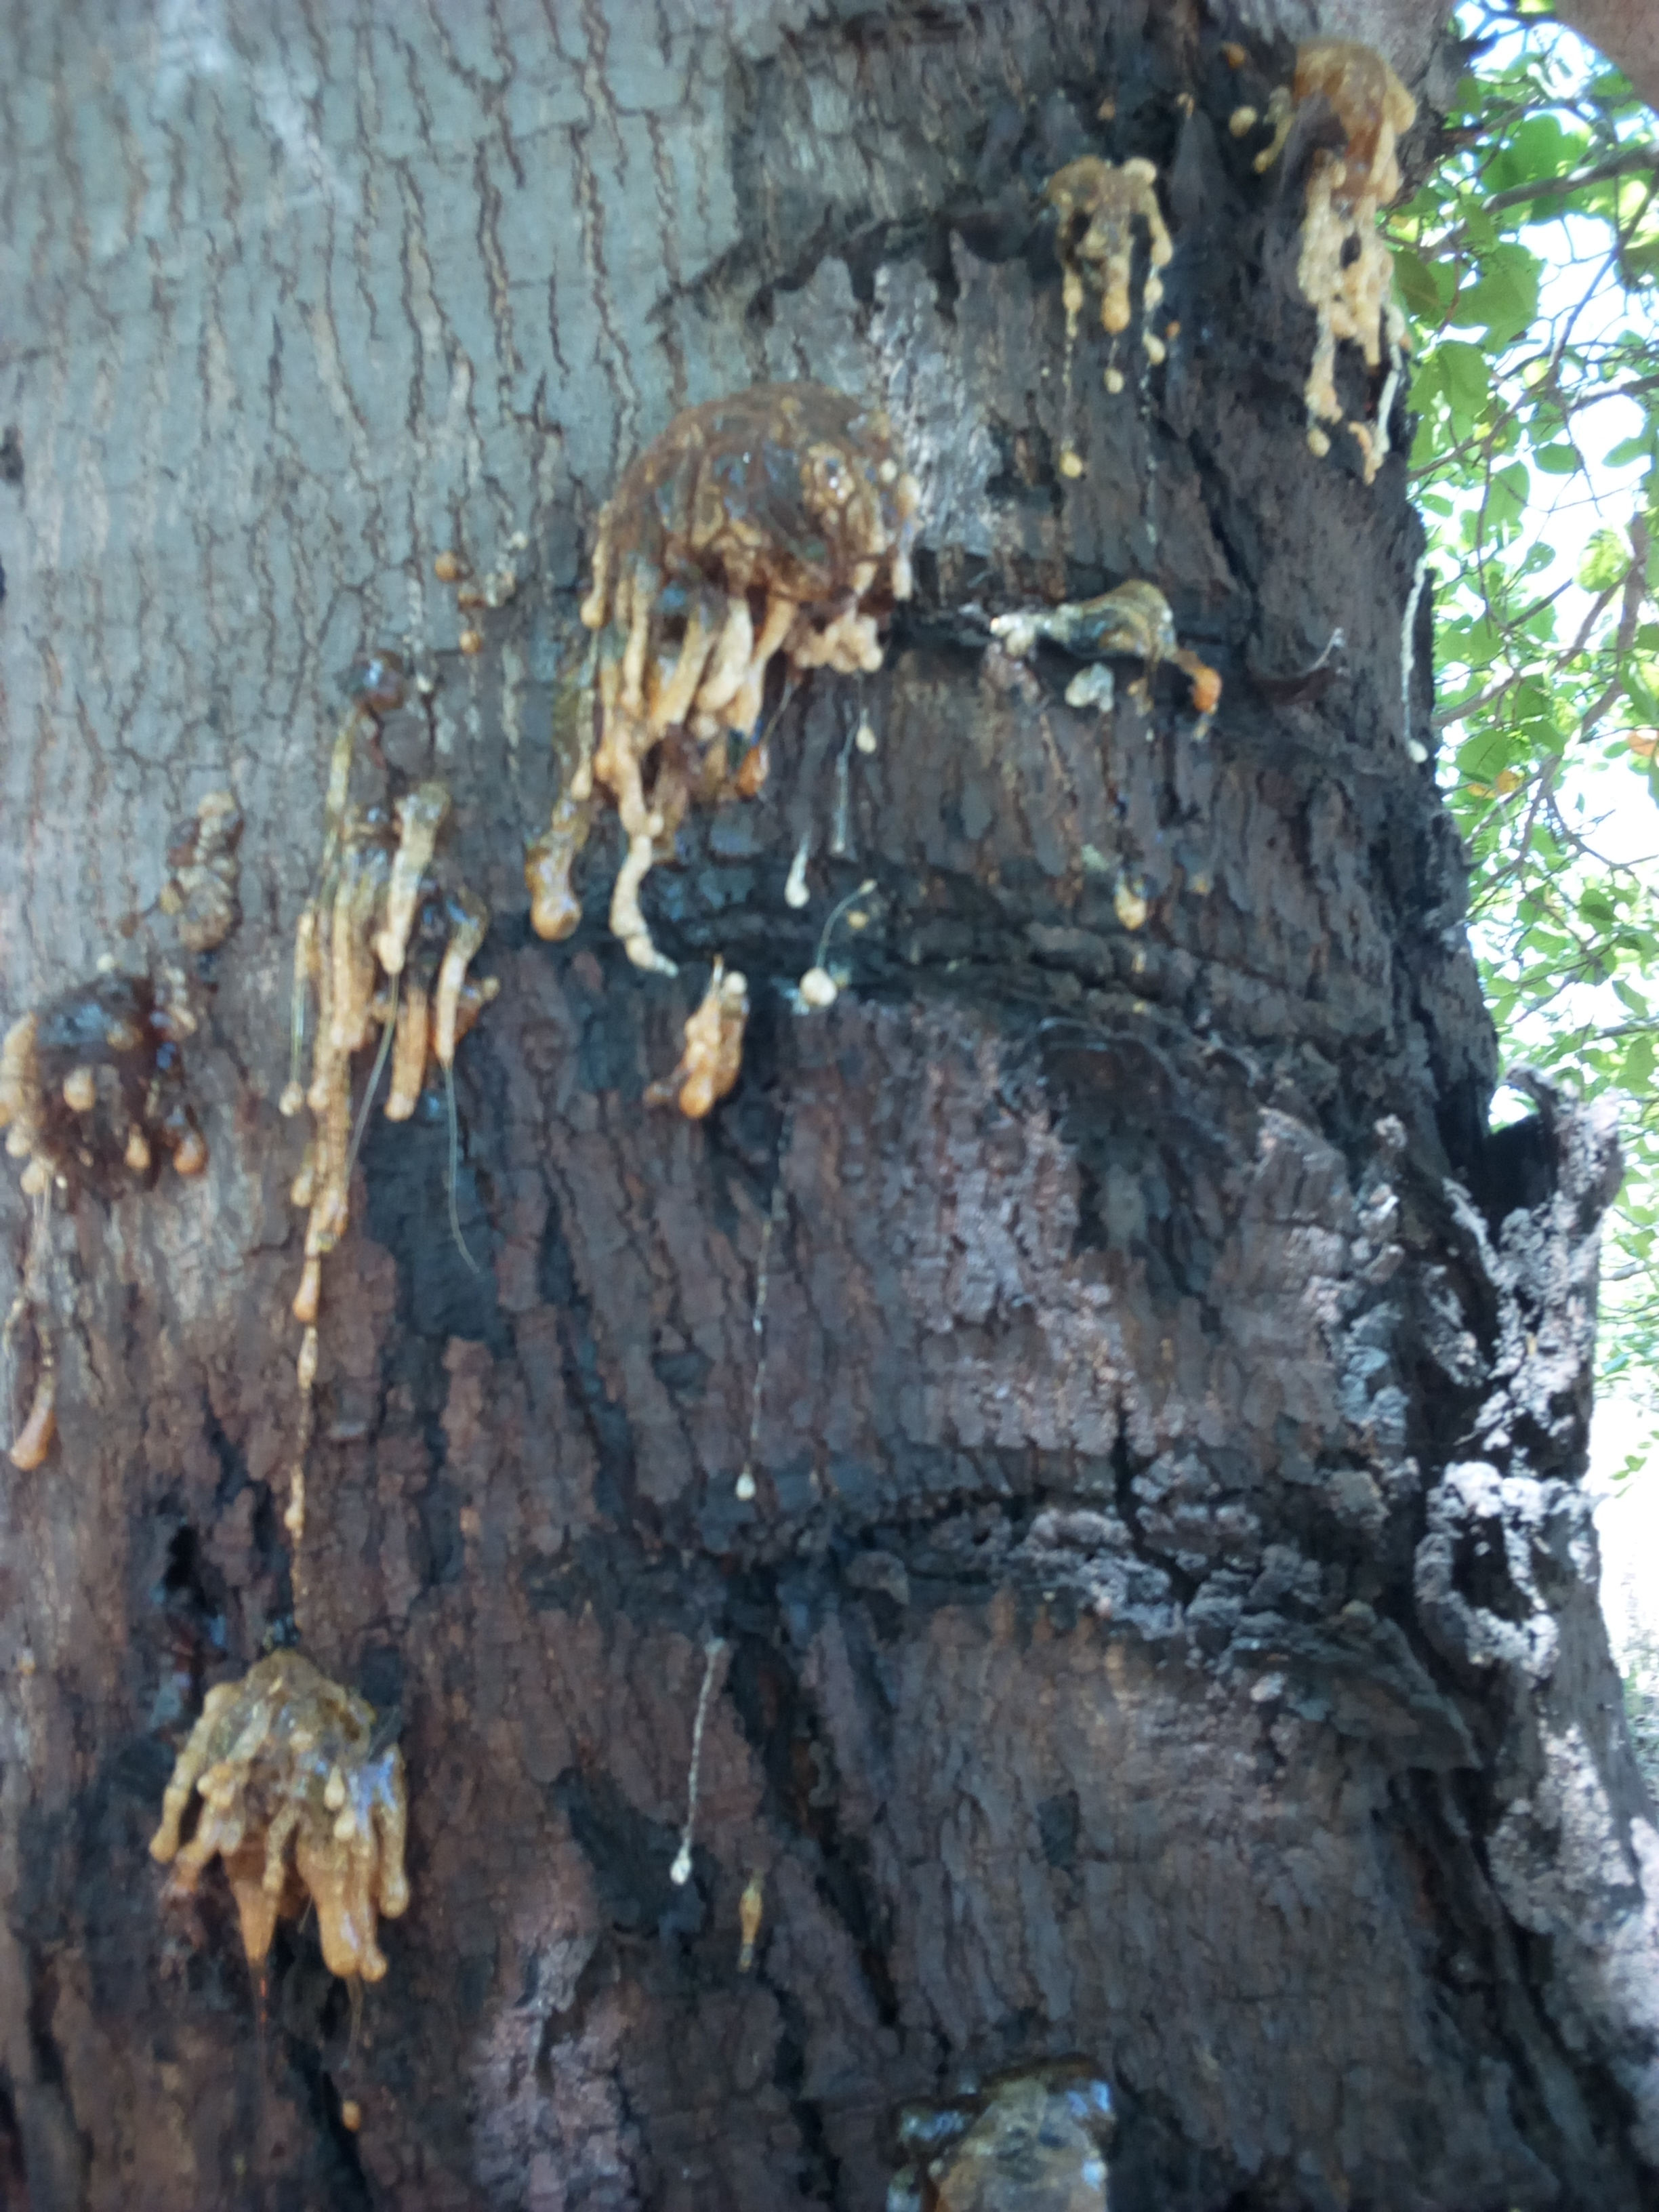Gommose: (1019, 421, 1619, 2024), (0, 364, 962, 1313), (793, 12, 1446, 411)
